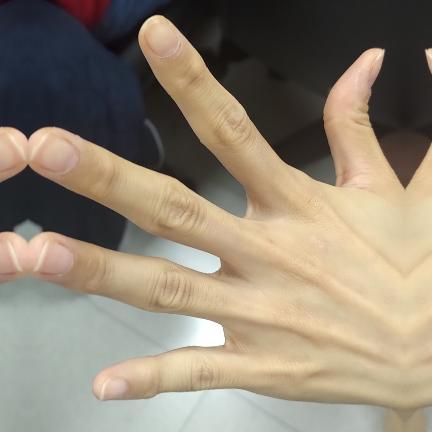Nail: (27, 131, 77, 174), (141, 15, 179, 57), (32, 239, 73, 275), (0, 131, 27, 174), (0, 239, 22, 275), (367, 49, 384, 93), (98, 379, 128, 401), (425, 49, 432, 78)
